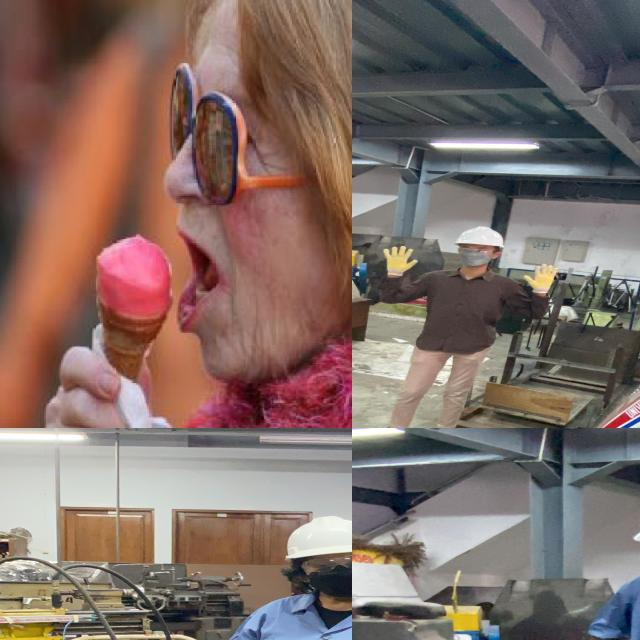face_mask: (295, 552, 352, 596), (458, 244, 492, 268)
face_nomask: (140, 68, 281, 330)
glasses: (163, 68, 304, 222), (295, 553, 352, 574), (454, 246, 499, 254)
hand_glove: (379, 244, 422, 274), (518, 262, 560, 292)
hand_noglove: (16, 323, 171, 428)
head_helmet: (274, 511, 352, 563), (454, 226, 506, 248)
head_nohelmet: (155, 0, 352, 58)
person: (360, 222, 566, 428), (157, 516, 352, 640)
shoes: (360, 422, 412, 428)
